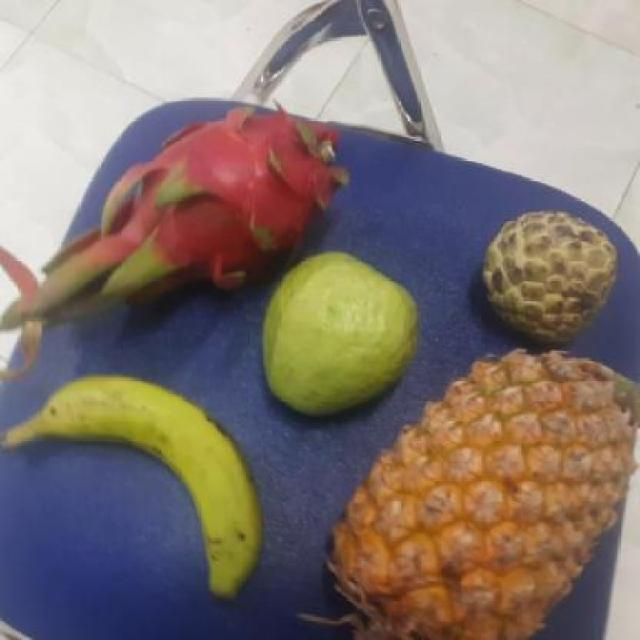banana: (7, 380, 264, 582)
dragon fruit: (119, 102, 336, 300)
guava: (255, 252, 420, 416)
sugar apple: (474, 213, 618, 345)
